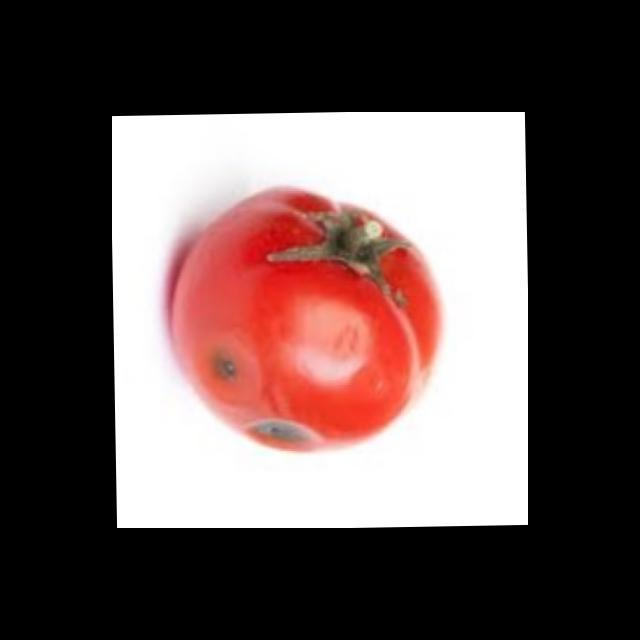tomato: (160, 180, 455, 463)
